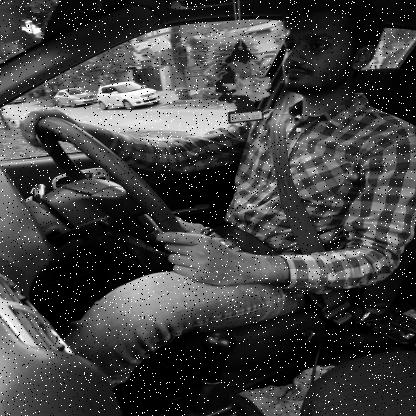seatbelt: (258, 1, 388, 240)
